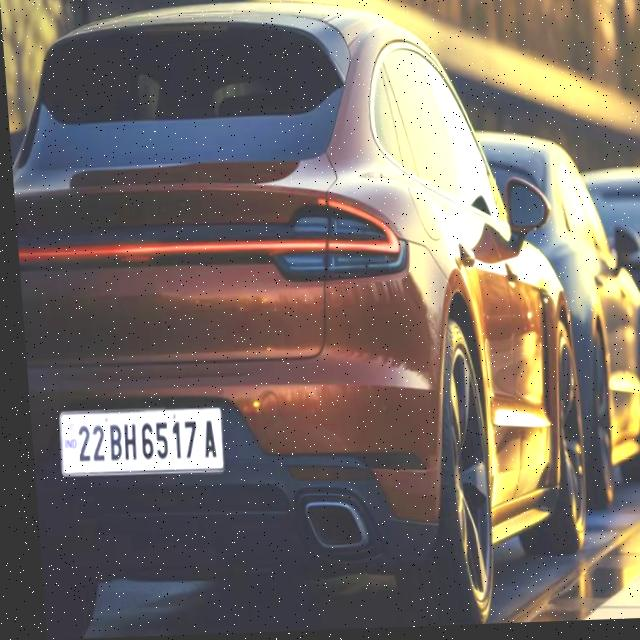plate: (49, 404, 219, 478)
